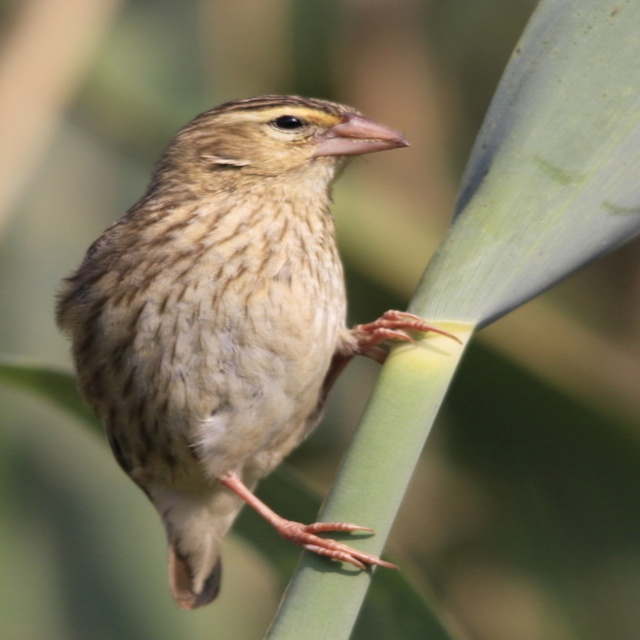Sparrow: (55, 96, 466, 609)
